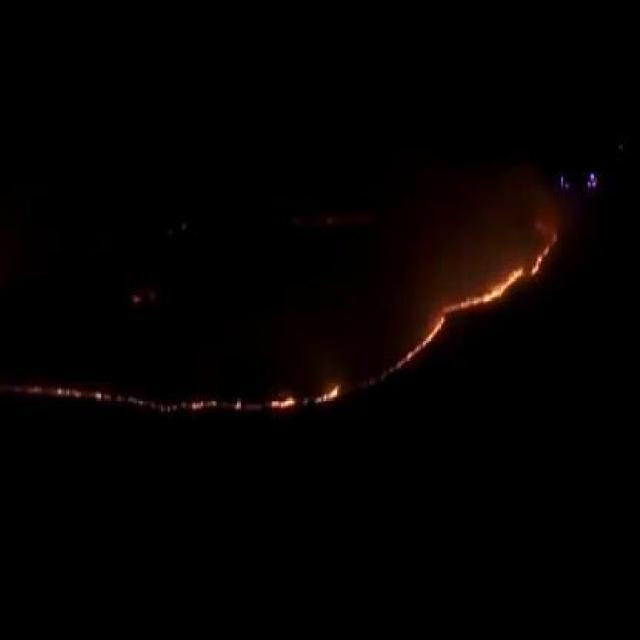Fire: (374, 266, 528, 388), (526, 235, 556, 278), (316, 382, 339, 402), (272, 392, 297, 410)
